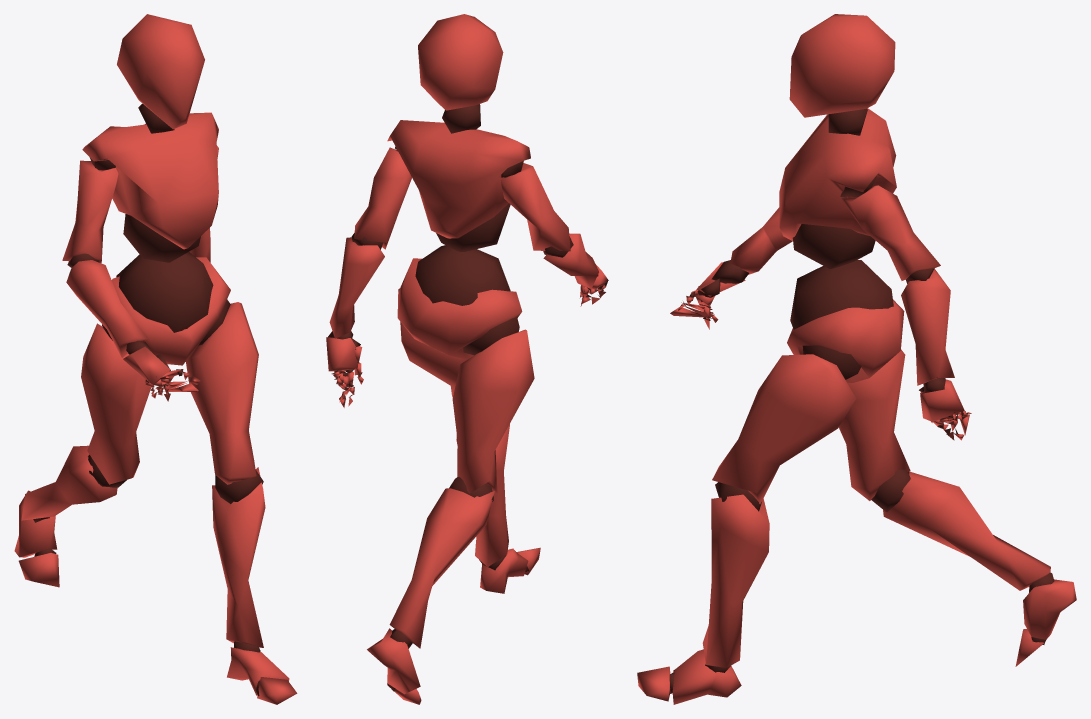
The picture shows the model from 3 angles, left to right: view 1: azimuth 30°, elevation 25°; view 2: azimuth 150°, elevation 25°; view 3: azimuth 270°, elevation 25°; orthographic projection. The views are drawn at different scales.
Parts seen in each view (by area): view 1: Beta_Surface; view 2: Beta_Surface; view 3: Beta_Surface.
Boxes of the visible parts, bbox=[...] form: Beta_Surface: bbox=[14, 14, 297, 704]; Beta_Surface: bbox=[326, 14, 608, 704]; Beta_Surface: bbox=[637, 14, 1076, 704].
Size of the model in its own units: 4.62 by 14.09 by 8.43.
